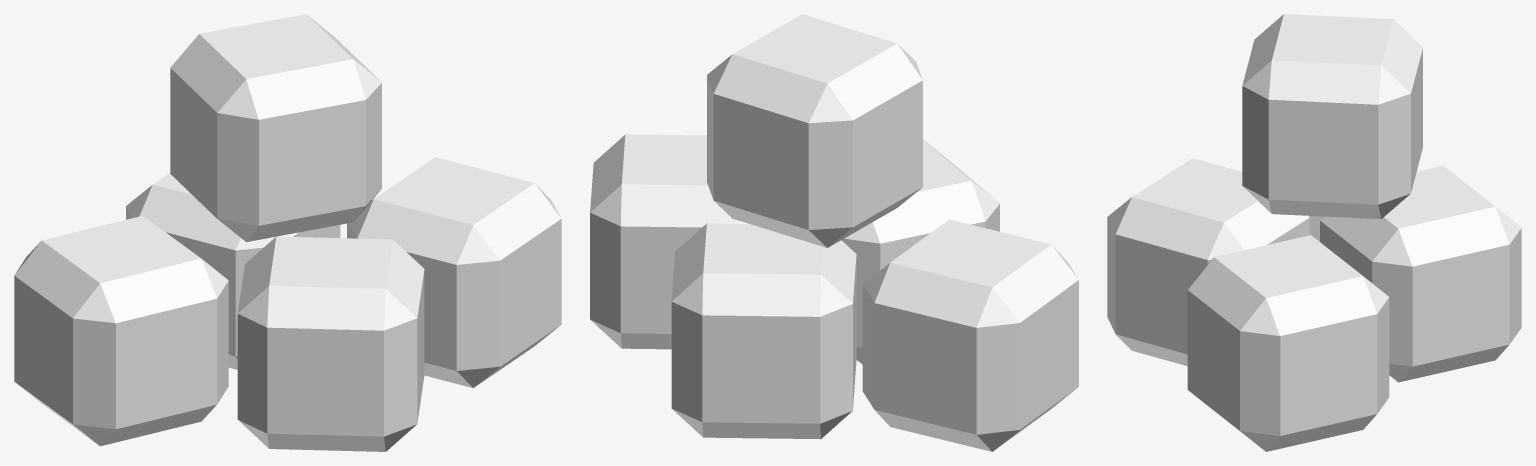
Rendered from frame.obj.
3 renders of one model, left to right at view 1: azimuth 30°, elevation 25°; view 2: azimuth 150°, elevation 25°; view 3: azimuth 270°, elevation 25°, orthographic. The views are drawn at different scales.
Visible parts, largest first — view 1: FramePoint_Frame_Cube.001; view 2: FramePoint_Frame_Cube.001; view 3: FramePoint_Frame_Cube.001.
Boxes of the visible parts, x1,y1,x2,y2 form: FramePoint_Frame_Cube.001: [14, 14, 561, 451]; FramePoint_Frame_Cube.001: [590, 14, 1078, 451]; FramePoint_Frame_Cube.001: [1107, 14, 1521, 451].
Size of the model in its own units: 7.55 by 4.93 by 5.99.
Materials: 1 (1 with a texture image).
